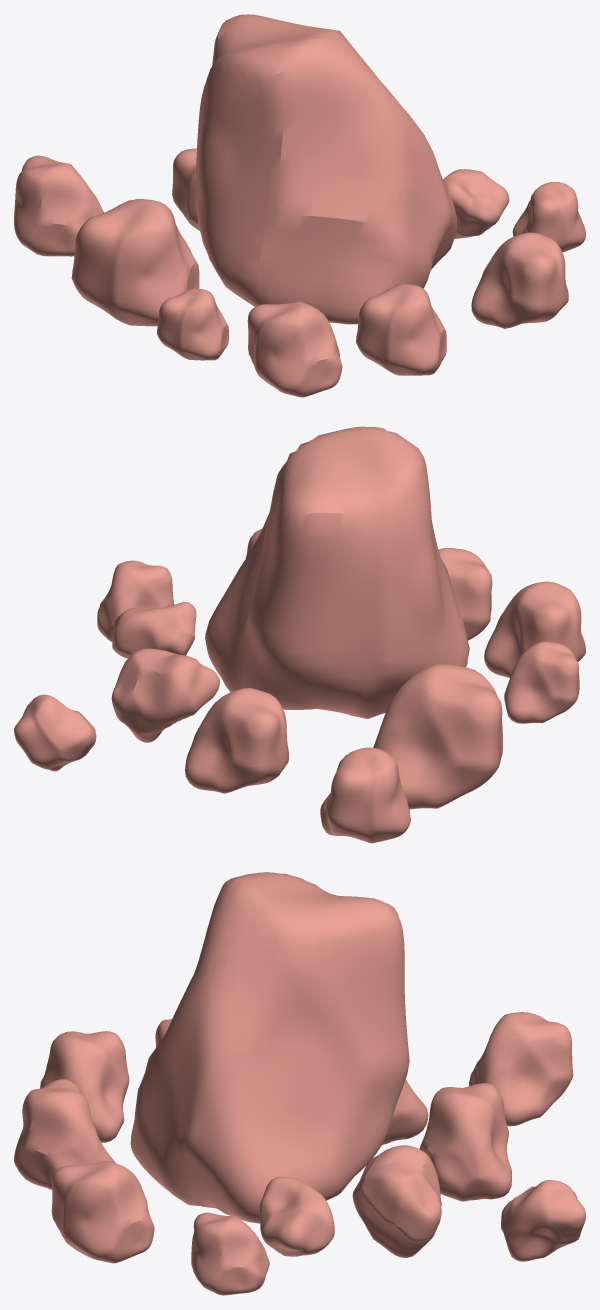
Rendered from rock_stage_3.fbx.
3 renders of one model, top to bottom at view 1: azimuth 30°, elevation 25°; view 2: azimuth 150°, elevation 25°; view 3: azimuth 270°, elevation 25°, orthographic. The views are drawn at different scales.
Parts seen in each view (by area): view 1: rock.006, rock.012, rock.010, rock.008, rock.009, rock.013, rock.014, rock.015, rock.016, rock.005; view 2: rock.006, rock.012, rock.005, rock.007, rock.013, rock.010, rock.014, rock.011, rock.016, rock.015, rock.009; view 3: rock.006, rock.005, rock.008, rock.013, rock.007, rock.009, rock.010, rock.015, rock.011, rock.016, rock.012.
Part boxes in pixels (<box>): rock.006: <box>195,14,456,324</box>; rock.012: <box>71,198,199,326</box>; rock.010: <box>247,301,342,397</box>; rock.008: <box>471,232,568,328</box>; rock.009: <box>356,284,446,375</box>; rock.013: <box>14,155,103,256</box>; rock.014: <box>157,288,228,360</box>; rock.015: <box>512,182,585,252</box>; rock.016: <box>443,169,509,238</box>; rock.005: <box>172,148,199,230</box>; rock.006: <box>205,426,469,718</box>; rock.012: <box>373,664,502,809</box>; rock.005: <box>185,688,288,793</box>; rock.007: <box>111,648,219,742</box>; rock.013: <box>320,747,410,843</box>; rock.010: <box>484,581,585,677</box>; rock.014: <box>504,641,579,723</box>; rock.011: <box>14,694,96,771</box>; rock.016: <box>112,601,196,658</box>; rock.015: <box>97,560,174,641</box>; rock.009: <box>438,548,492,640</box>; rock.006: <box>130,872,409,1223</box>; rock.005: <box>419,1083,511,1201</box>; rock.008: <box>51,1161,154,1263</box>; rock.013: <box>469,1012,573,1126</box>; rock.007: <box>352,1145,441,1257</box>; rock.009: <box>14,1079,115,1189</box>; rock.010: <box>40,1031,129,1142</box>; rock.015: <box>191,1212,269,1295</box>; rock.011: <box>501,1180,585,1261</box>; rock.016: <box>259,1176,334,1256</box>; rock.012: <box>382,1079,428,1144</box>.
Bounding box in the file's own units: 98.8 × 62.27 × 104.
